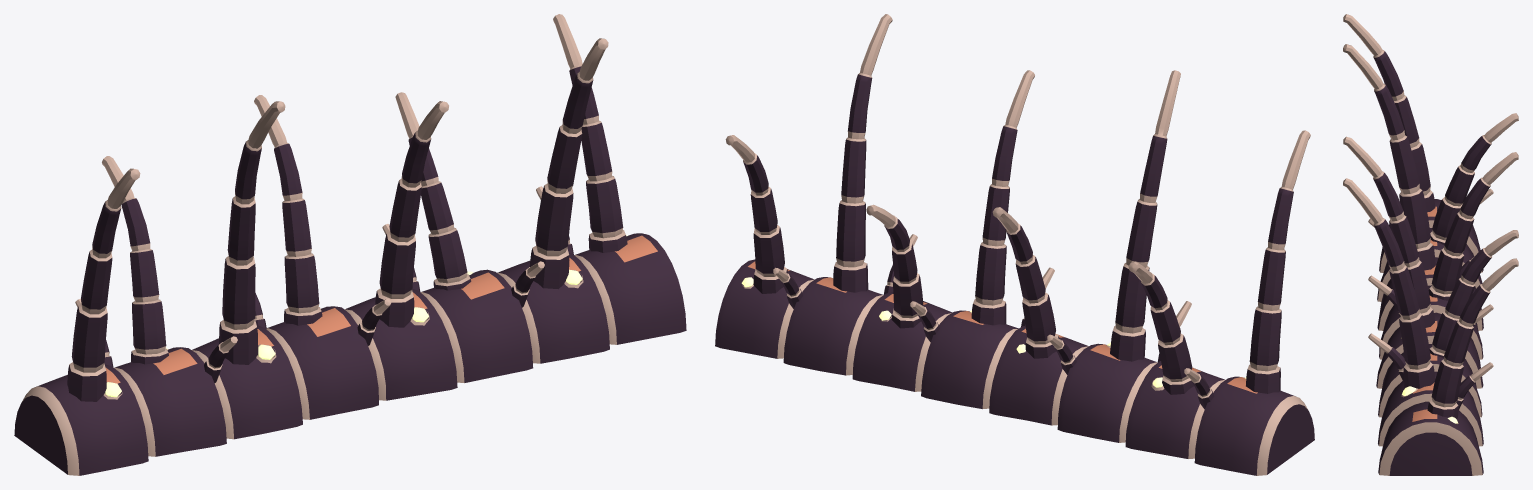
Rendered from deco_spine_fence.fbx.
3 views of the same model, side by side, from view 1: azimuth 30°, elevation 25°; view 2: azimuth 150°, elevation 25°; view 3: azimuth 270°, elevation 25° (orthographic). The views are drawn at different scales.
Visible parts, largest first — view 1: SpineFence_Ridge, SpineFence_Spines, SpineFence_Nodules; view 2: SpineFence_Ridge, SpineFence_Spines; view 3: SpineFence_Spines, SpineFence_Ridge.
Boxes of the visible parts, x1,y1,x2,y2 form: SpineFence_Ridge: (14,233,686,475); SpineFence_Spines: (67,14,627,401); SpineFence_Nodules: (103,235,627,399); SpineFence_Ridge: (715,259,1314,475); SpineFence_Spines: (725,14,1310,409); SpineFence_Spines: (1343,14,1518,418); SpineFence_Ridge: (1376,199,1483,475).
Bounding box in the file's own units: 400 × 217 × 129.
